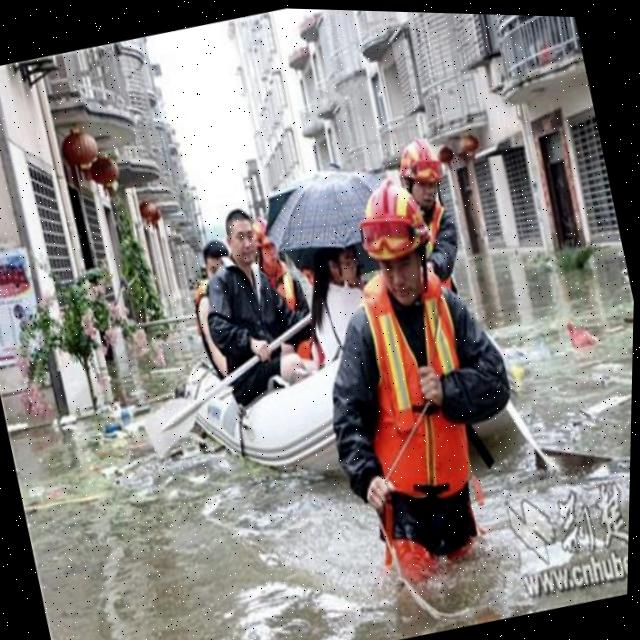civilian: (183, 194, 321, 437), (176, 227, 275, 387), (296, 230, 380, 366)
rescuer: (284, 164, 558, 630), (222, 180, 342, 392), (381, 121, 490, 296)
